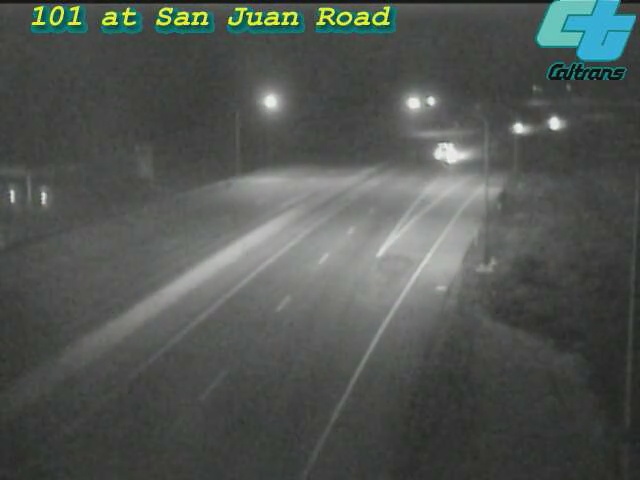vehicle: (530, 98, 580, 148), (490, 105, 540, 155), (421, 128, 471, 178)
